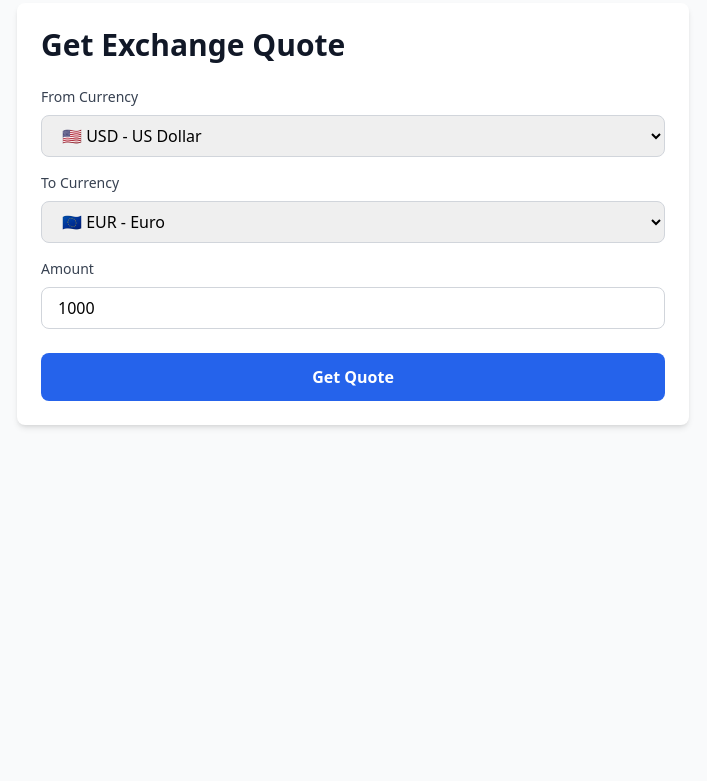
it: QuoteScreen › should show countdown timer for quote expiry
Click the button "Get Quote" at point(353, 377), box [41,353,665,401]
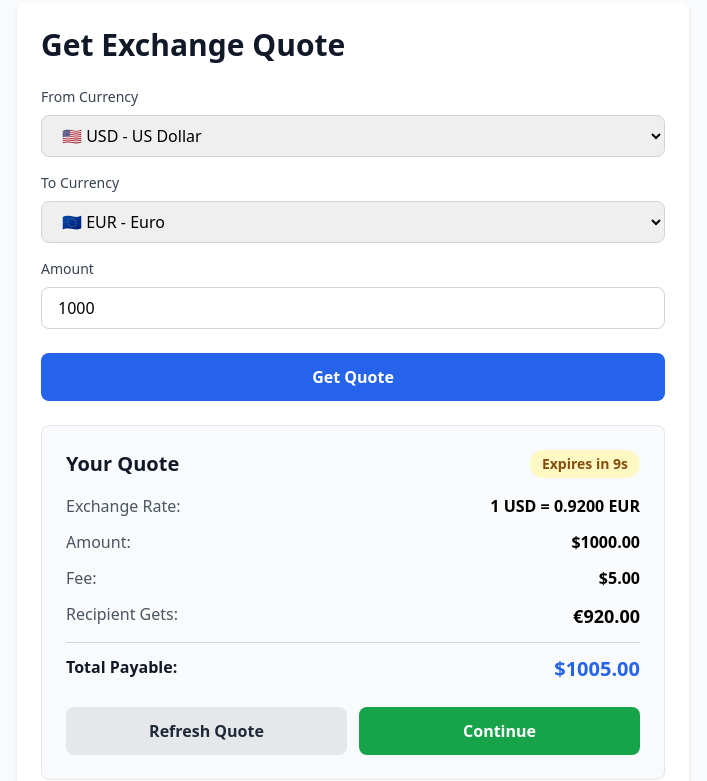
Now the text "Expires in 9s" is shown, box [530,450,640,478]
